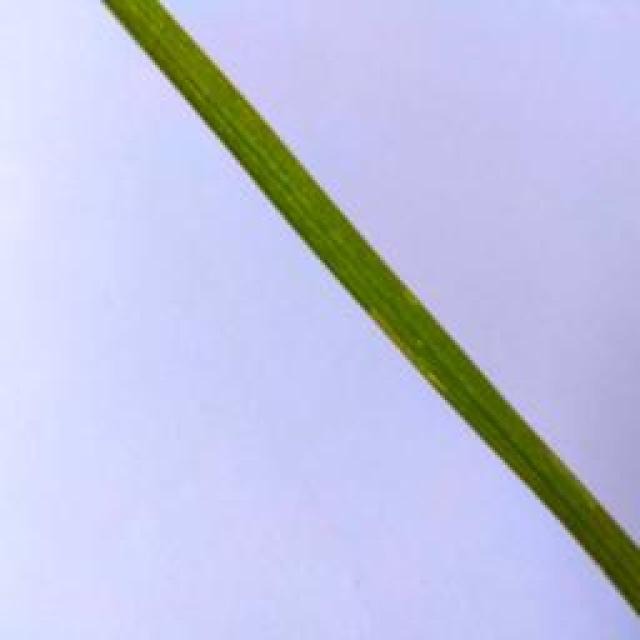Healthy-Plant: (108, 0, 640, 619)
